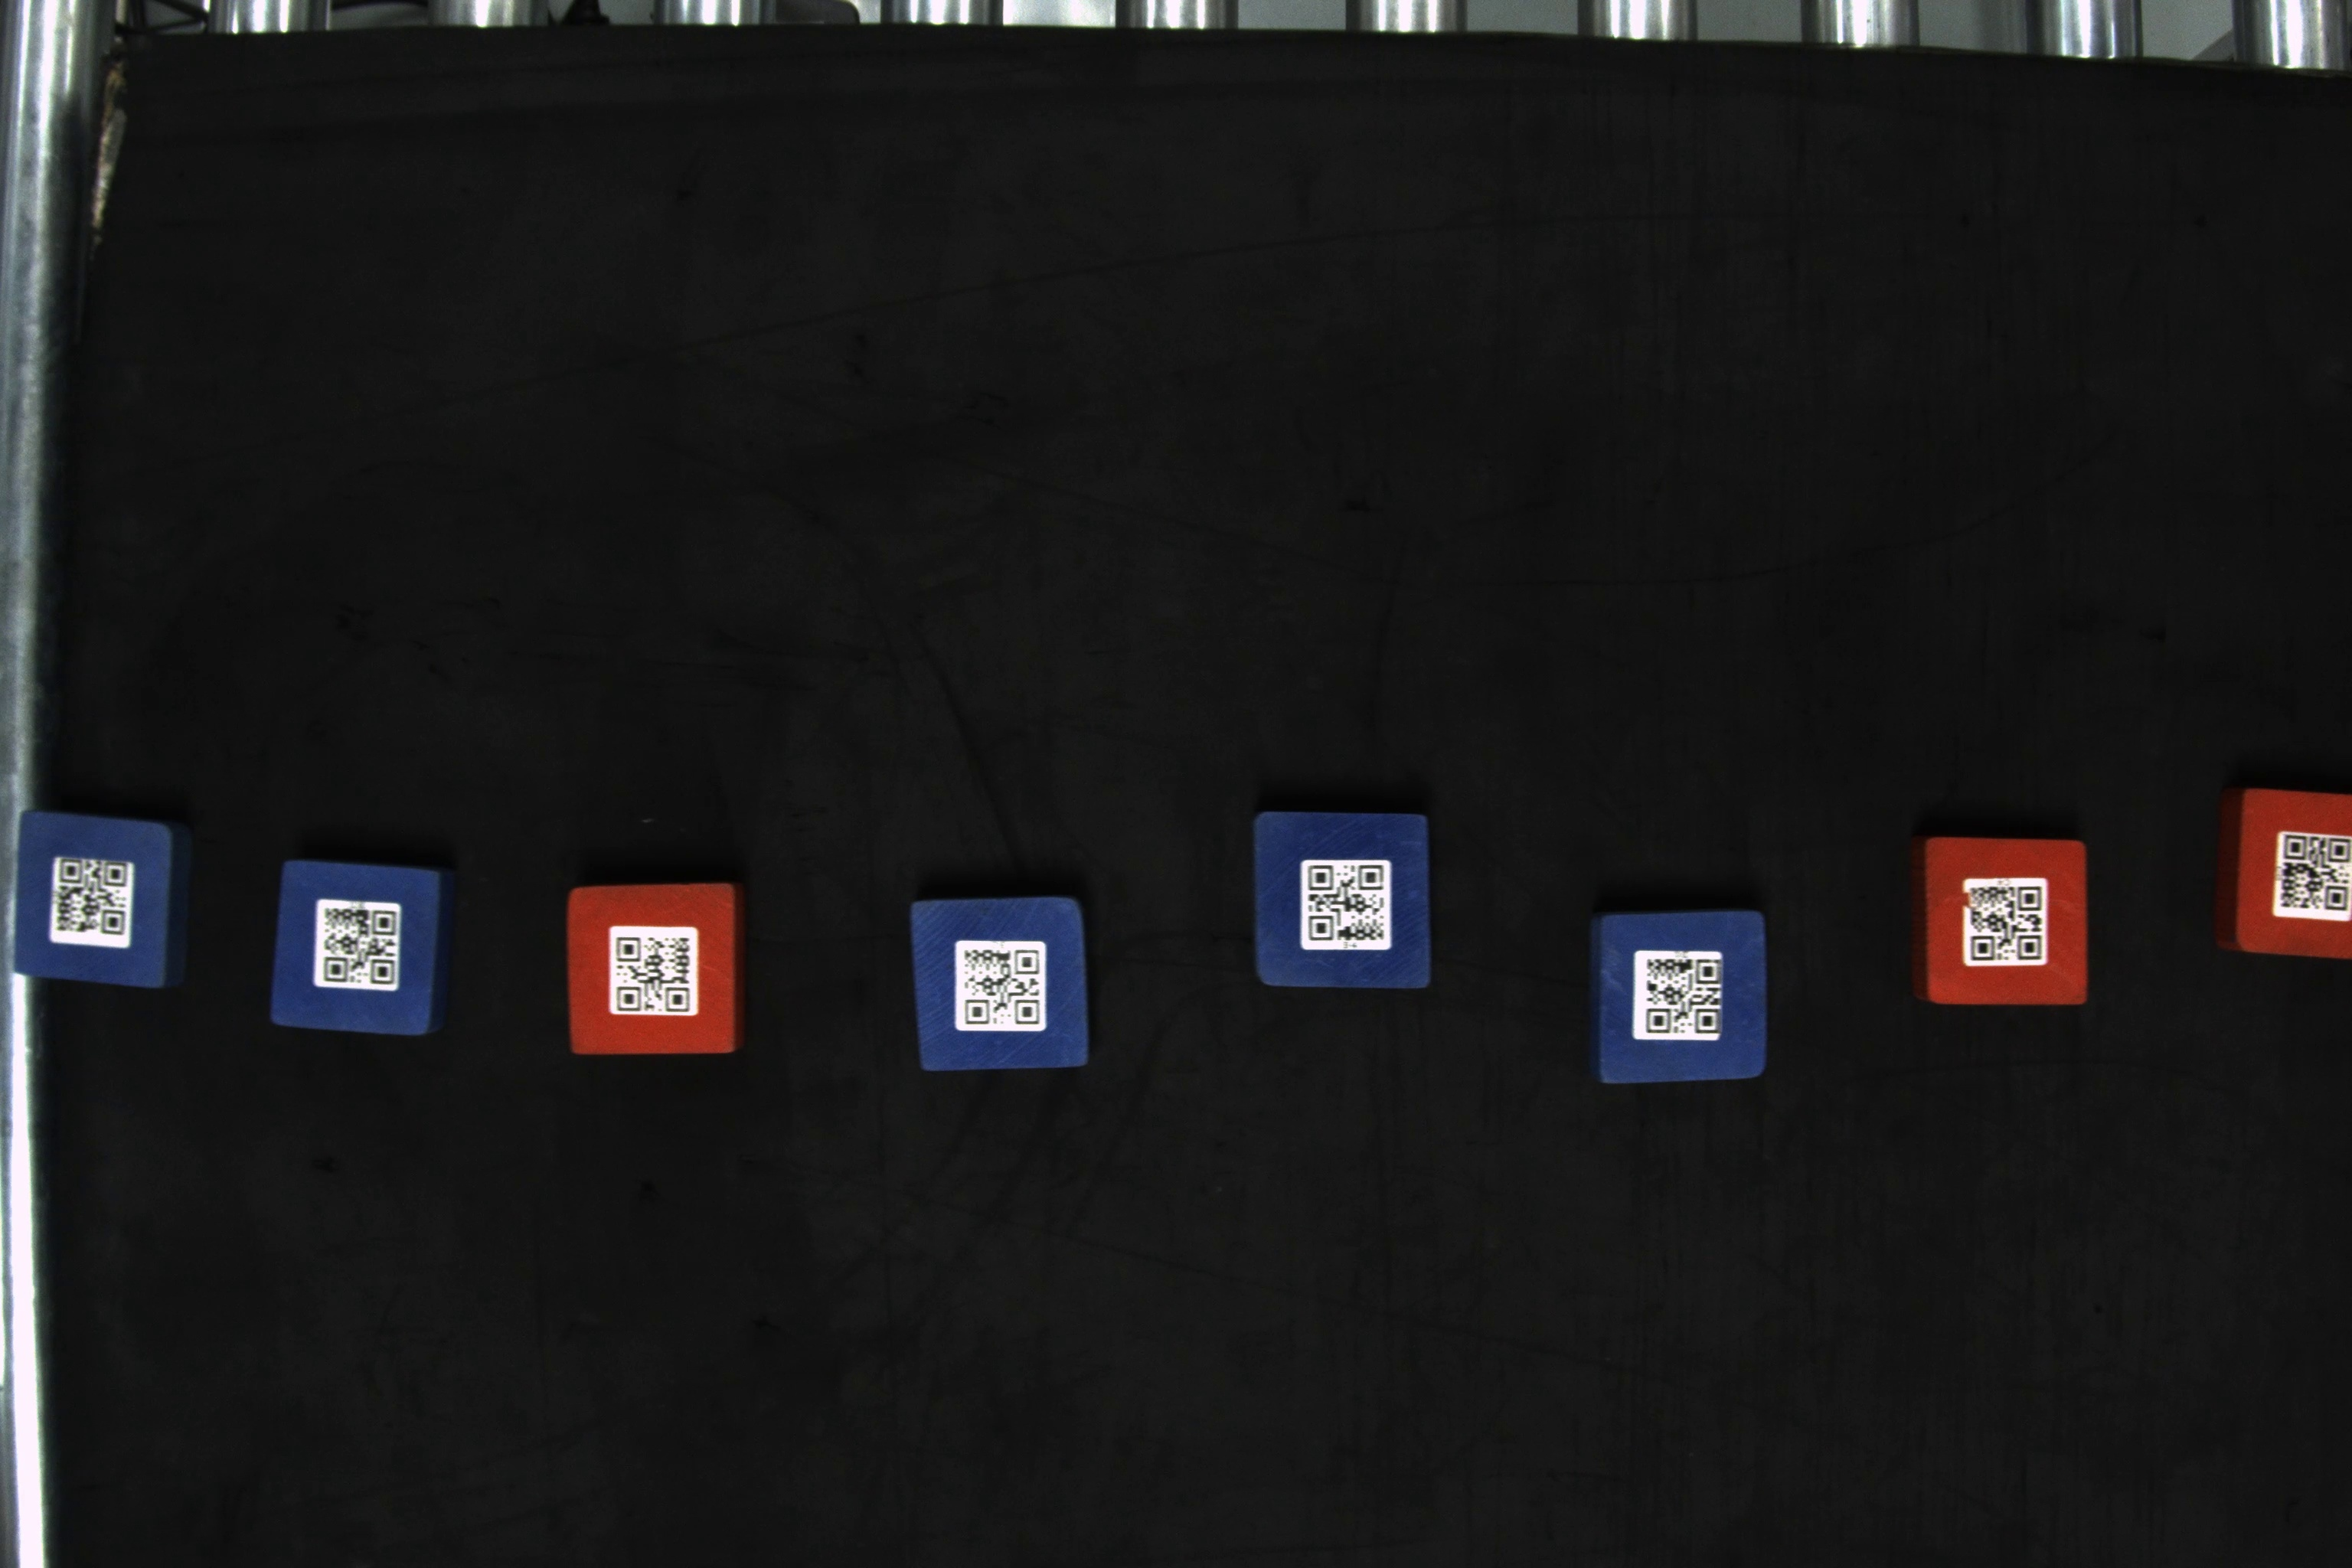wood: (10, 801, 203, 1001), (556, 877, 751, 1059), (268, 857, 457, 1043), (1255, 805, 1440, 994), (905, 896, 1099, 1073), (1589, 912, 1776, 1094), (1911, 831, 2093, 1011), (2221, 784, 2352, 962)
